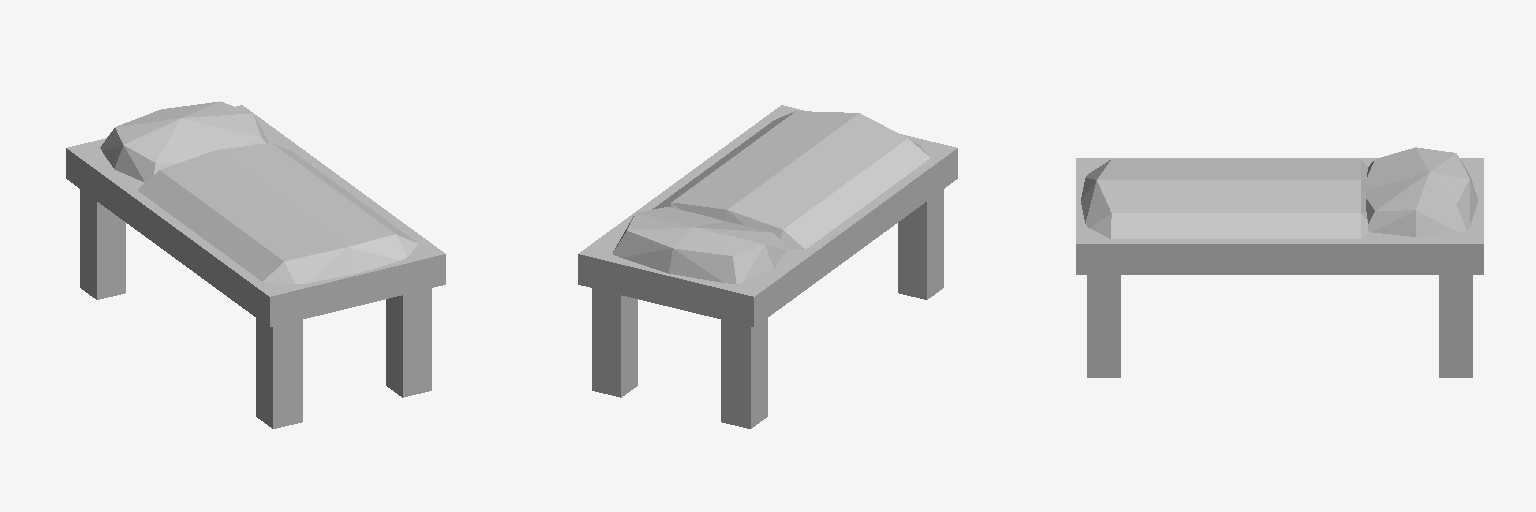
Rendered from bed.obj.
3 renders of one model, left to right at view 1: azimuth 30°, elevation 25°; view 2: azimuth 150°, elevation 25°; view 3: azimuth 270°, elevation 25°, orthographic.
Visible parts, largest first — view 1: Bedframe, Blanket, Pillow; view 2: Bedframe, Blanket, Pillow; view 3: Bedframe, Blanket, Pillow.
Boxes of the visible parts, x1,y1,x2,y2 form: Bedframe: [66, 105, 445, 428]; Blanket: [138, 143, 417, 283]; Pillow: [100, 101, 268, 182]; Bedframe: [578, 105, 957, 428]; Blanket: [652, 111, 929, 249]; Pillow: [613, 207, 786, 284]; Bedframe: [1076, 158, 1483, 377]; Blanket: [1081, 159, 1368, 238]; Pillow: [1366, 147, 1477, 236].
Bounding box in the file's own units: 1.5 × 1.35 × 3.